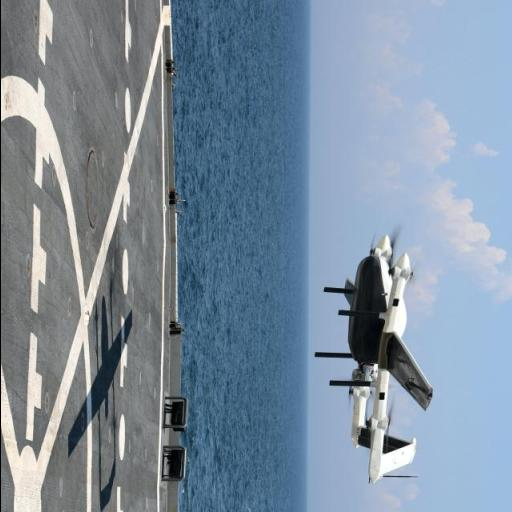uav: (326, 226, 440, 508)
